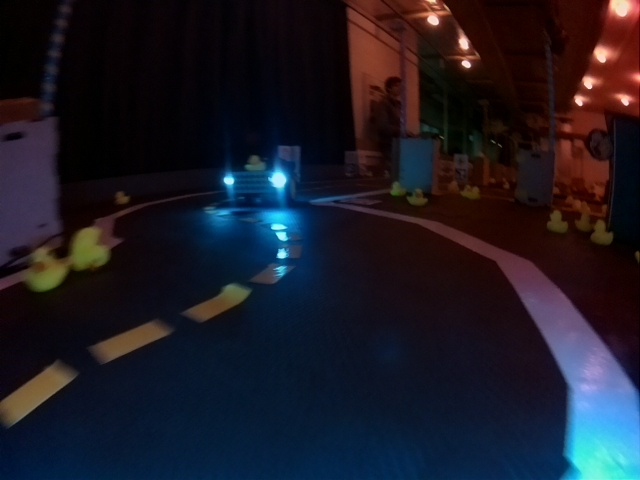Duckie: (24, 247, 67, 291), (72, 227, 109, 270), (590, 220, 613, 245), (548, 211, 568, 232), (408, 190, 428, 206), (575, 214, 592, 231), (245, 155, 263, 170), (115, 192, 129, 205), (390, 182, 405, 194), (467, 187, 479, 198), (462, 186, 470, 195)
Duckiebot: (226, 165, 296, 202)
